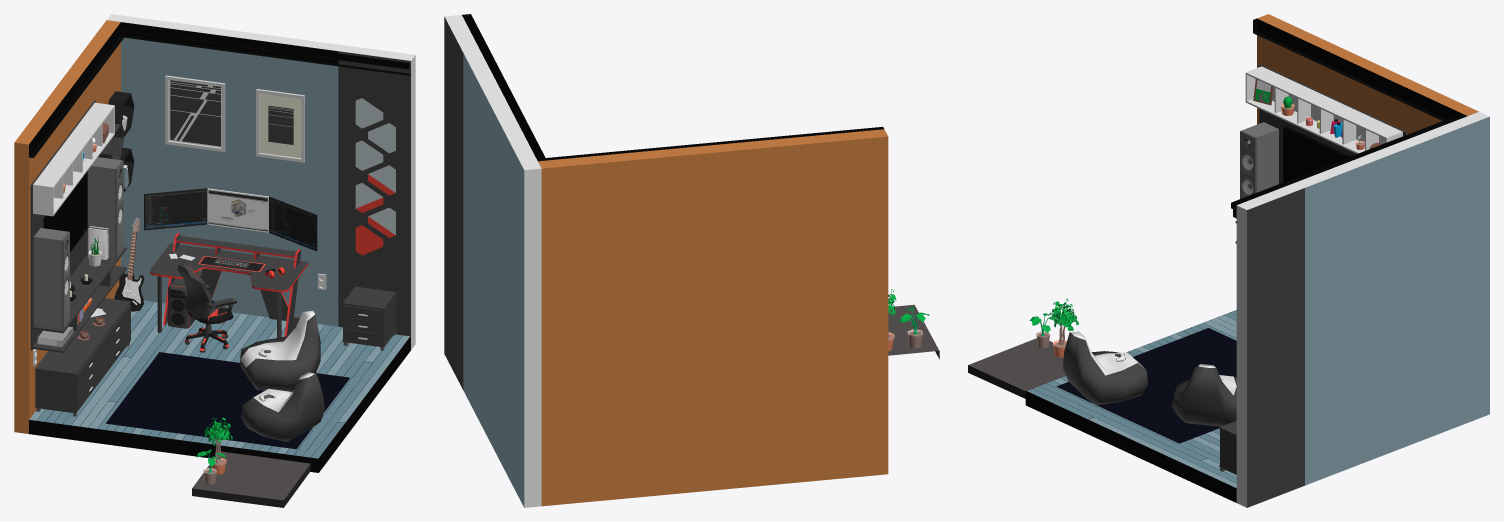
The model's file is testrun6.glb.
3 views of the same model, side by side, from view 1: azimuth 30°, elevation 25°; view 2: azimuth 150°, elevation 25°; view 3: azimuth 270°, elevation 25° (orthographic). The views are drawn at different scales.
Visible parts, largest first — view 1: Walls_116.013, Walls_011.007, rug, Walls_006.045, floor_005.002, floor_005.001, Walls_011.006, office_table_028.001, shelf_070.001, Mini Floor.001, picture_063.001, tv_wall_021.001 (+22 smaller); view 2: Walls_006.045, Walls_116.013, Walls_011.007, Mini Floor.001, Walls_005.382, Walls_005.377, Walls_005.378; view 3: Walls_116.013, Walls_011.007, Walls_006.045, rug, shelf_072.001, floor_005.001, office_chair_022.002, Walls_011.006, Walls_005.382, Mini Floor.001, office_chair_022.001, musical_instrument_019.001 (+6 smaller).
Boxes of the visible parts, x1,y1,x2,y2 form: Walls_116.013: (107,14,342,326); Walls_011.007: (338,45,415,349); rug: (106,352,349,449); Walls_006.045: (14,20,120,433); floor_005.002: (29,300,264,438); floor_005.001: (173,317,409,458); Walls_011.006: (29,301,410,472); office_table_028.001: (150,233,308,337); shelf_070.001: (35,298,130,416); Mini Floor.001: (192,451,310,507); picture_063.001: (355,98,395,255); tv_wall_021.001: (30,100,126,352); Walls_006.045: (538,129,888,506); Walls_116.013: (463,51,541,507); Walls_011.007: (444,15,480,389); Mini Floor.001: (888,304,939,359); Walls_005.382: (537,126,883,161); Walls_005.377: (462,14,543,160); Walls_005.378: (468,14,546,160); Walls_116.013: (1295,111,1489,485); Walls_011.007: (1236,183,1304,507); Walls_006.045: (1257,14,1478,134); rug: (1056,328,1236,443); shelf_072.001: (1245,66,1402,153); floor_005.001: (1027,346,1236,487); office_chair_022.002: (1063,331,1148,404); Walls_011.006: (1025,312,1236,502); Walls_005.382: (1253,18,1461,120); Mini Floor.001: (968,338,1065,398); office_chair_022.001: (1171,364,1236,426); musical_instrument_019.001: (1240,122,1278,198).
Bounding box in the file's own units: 40.88 × 28.94 × 45.94.
83 materials, 66 textured.
